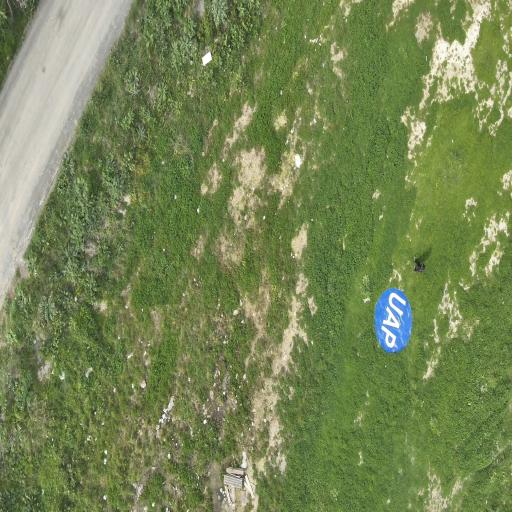UAP: (375, 289, 412, 352)
person: (414, 257, 425, 272)
